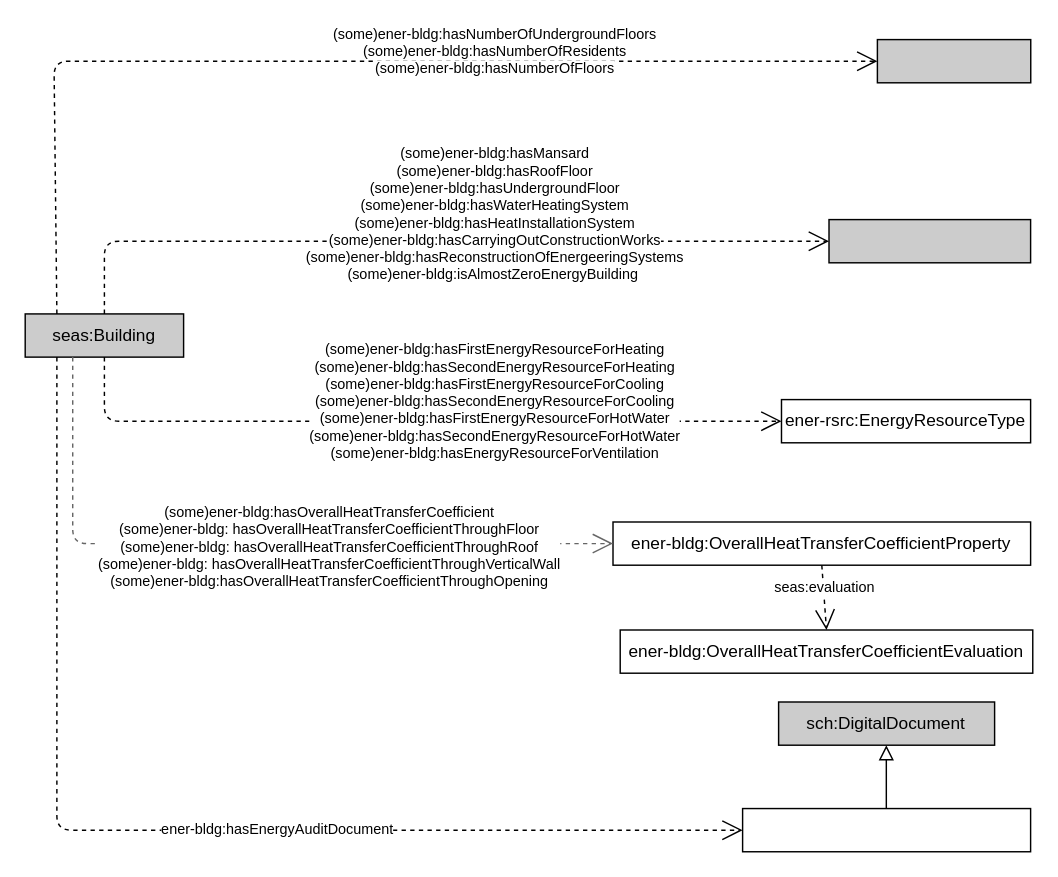
The diagram is 1058 pixels wide and 877 high, and some of its shapes have lost their labels. Here are the shapes that lost their labels. From the top down, the centre of each, then its label:
At [953,60]: "xsd:integer".
At [929,240]: "seas:BooleanProperty".
At [886,829]: "ener-bldg:EnergyAuditDocument".
